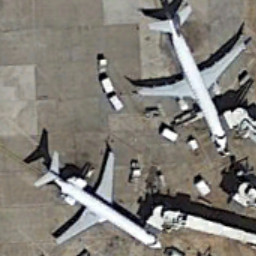Airplane: (125, 2, 254, 167), (25, 138, 169, 256)
